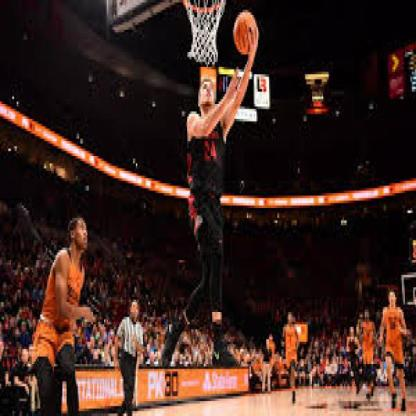basketball: (233, 13, 258, 54)
rim: (183, 0, 225, 15)
